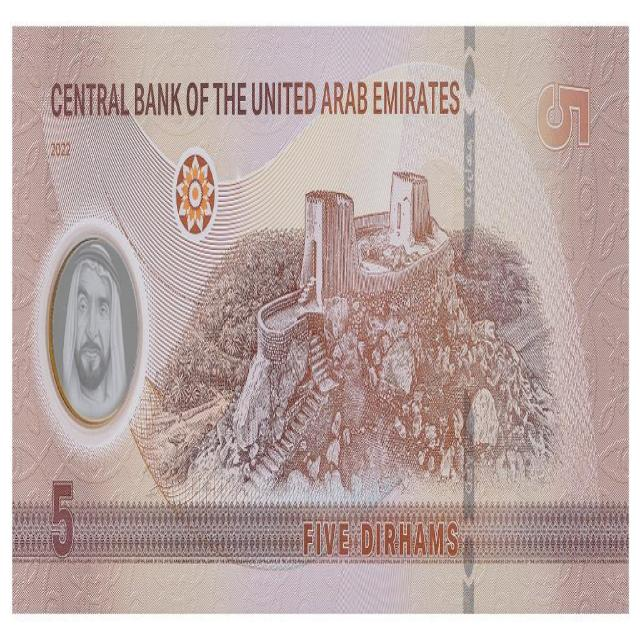5_AED: (13, 25, 629, 616)
